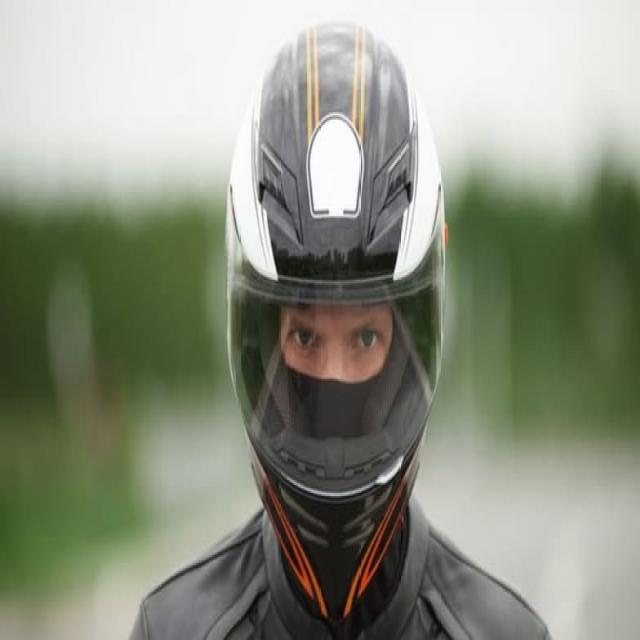Helmet: (228, 24, 449, 631)
